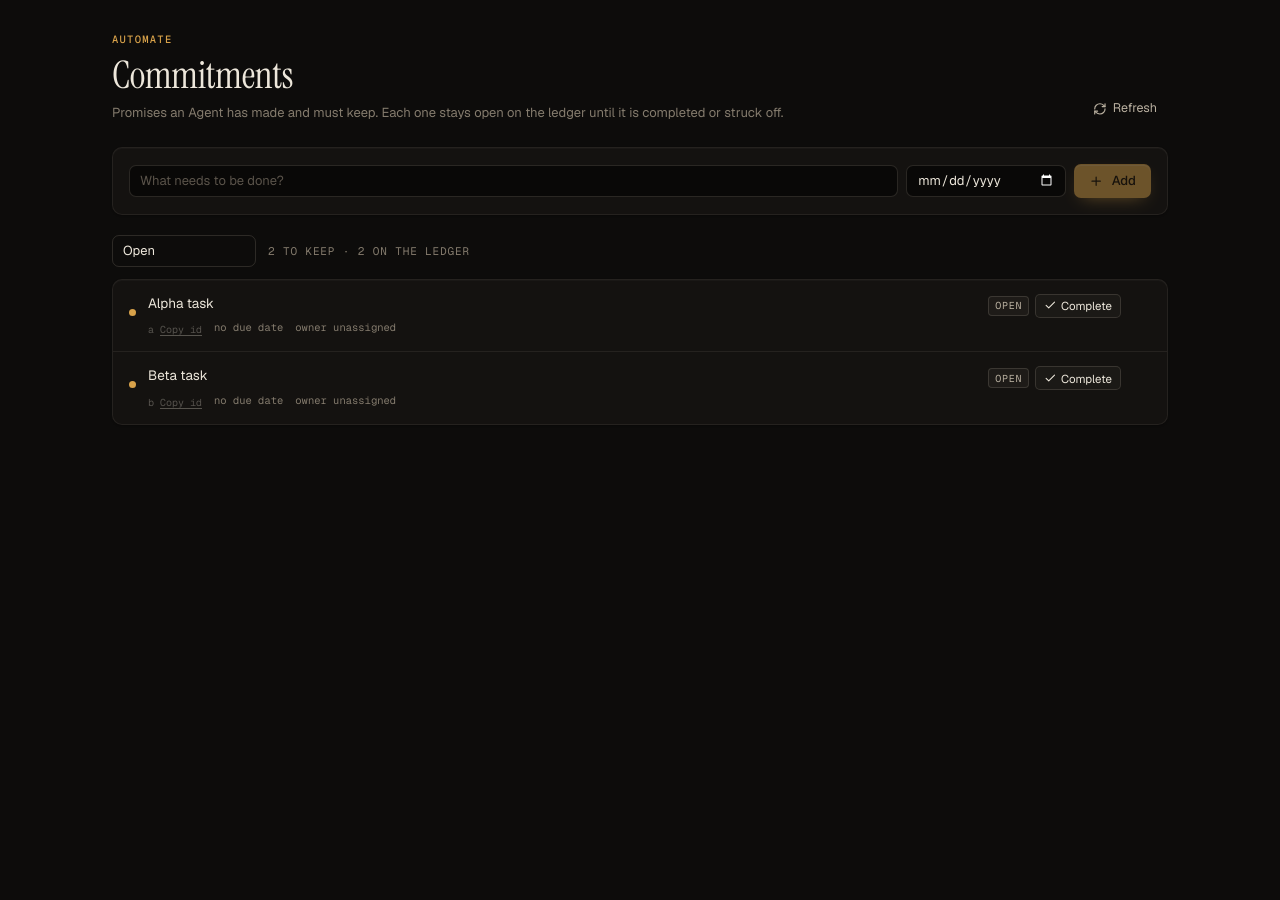
recovers confirmed complete_commitment with guarded reads only
The width and height of the screenshot is (1280, 900).
Expected: the text "Alpha task" is shown, [148,294,214,312]
Click the button "Complete" in the row of "Alpha task".
click(1078, 306)  # box [1035,294,1121,318]
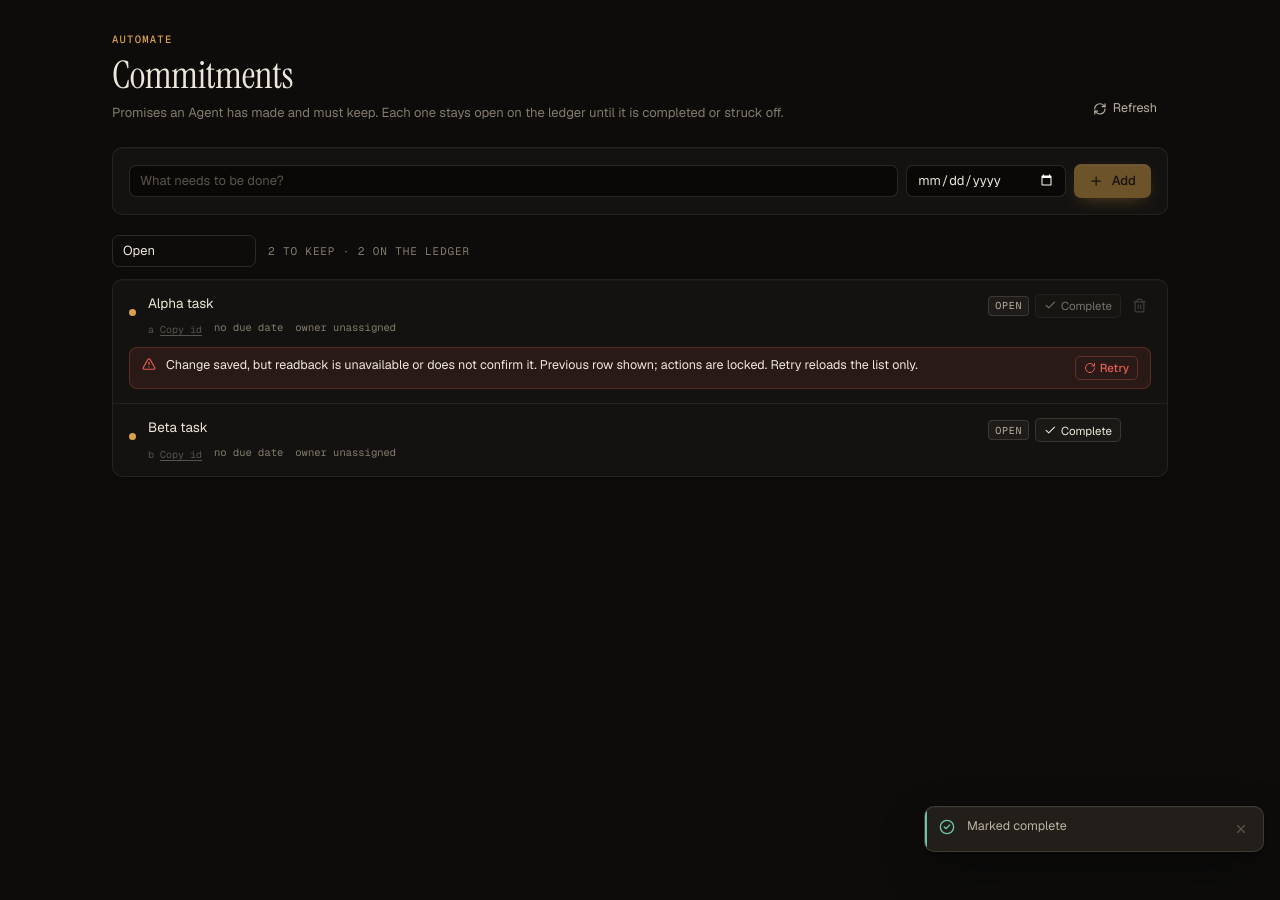
Result: the 1st message shows "saved" at [166,356,918,373]
Result: the 1st message shows "Retry reloads the list only" at [166,356,918,373]
Result: the button named "Delete" is disabled at [1127,294,1151,318]
Click the button "Retry".
click(1106, 368)  # box [1075,356,1138,380]
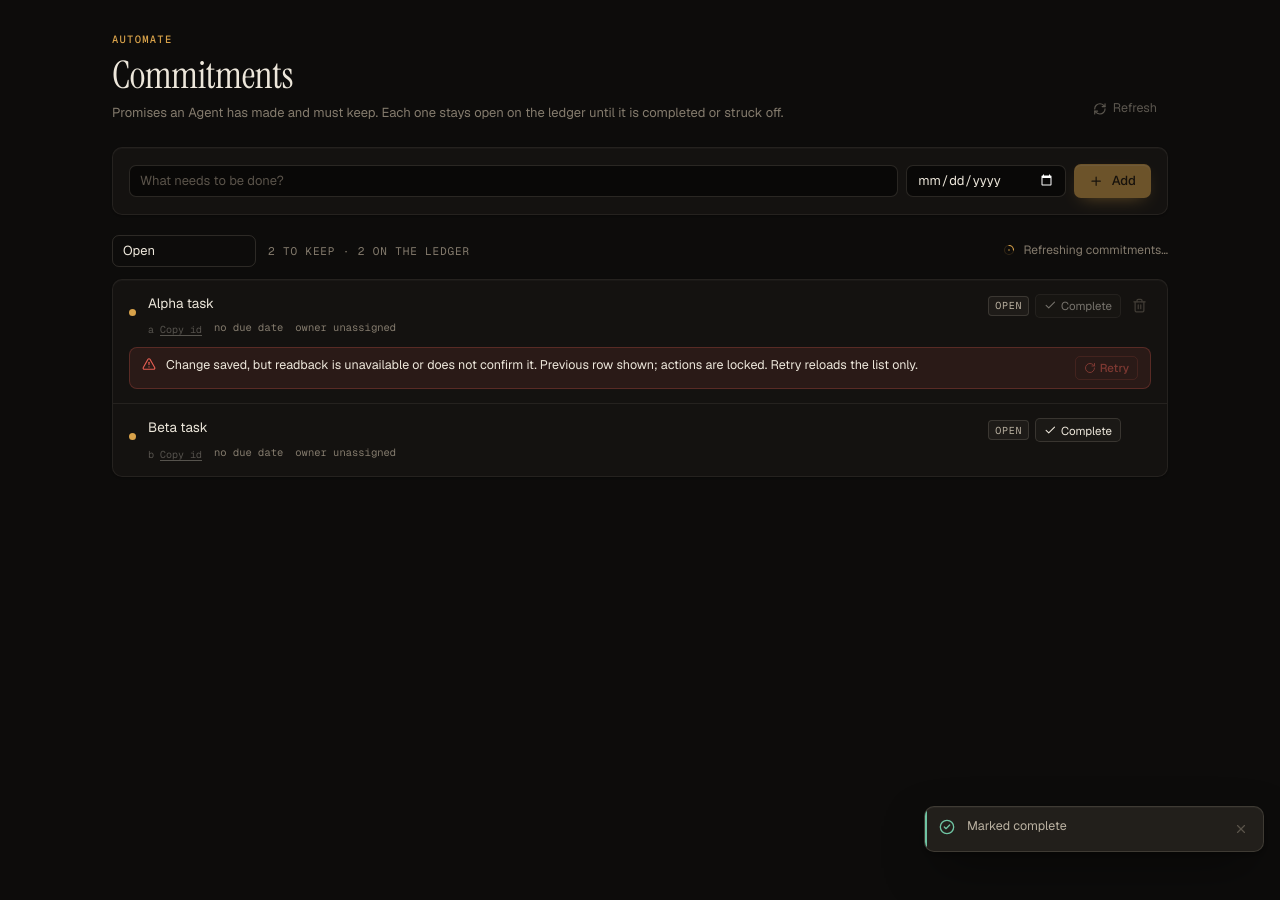
Click the button "Retry".
click(1106, 368)  # box [1075,356,1138,380]
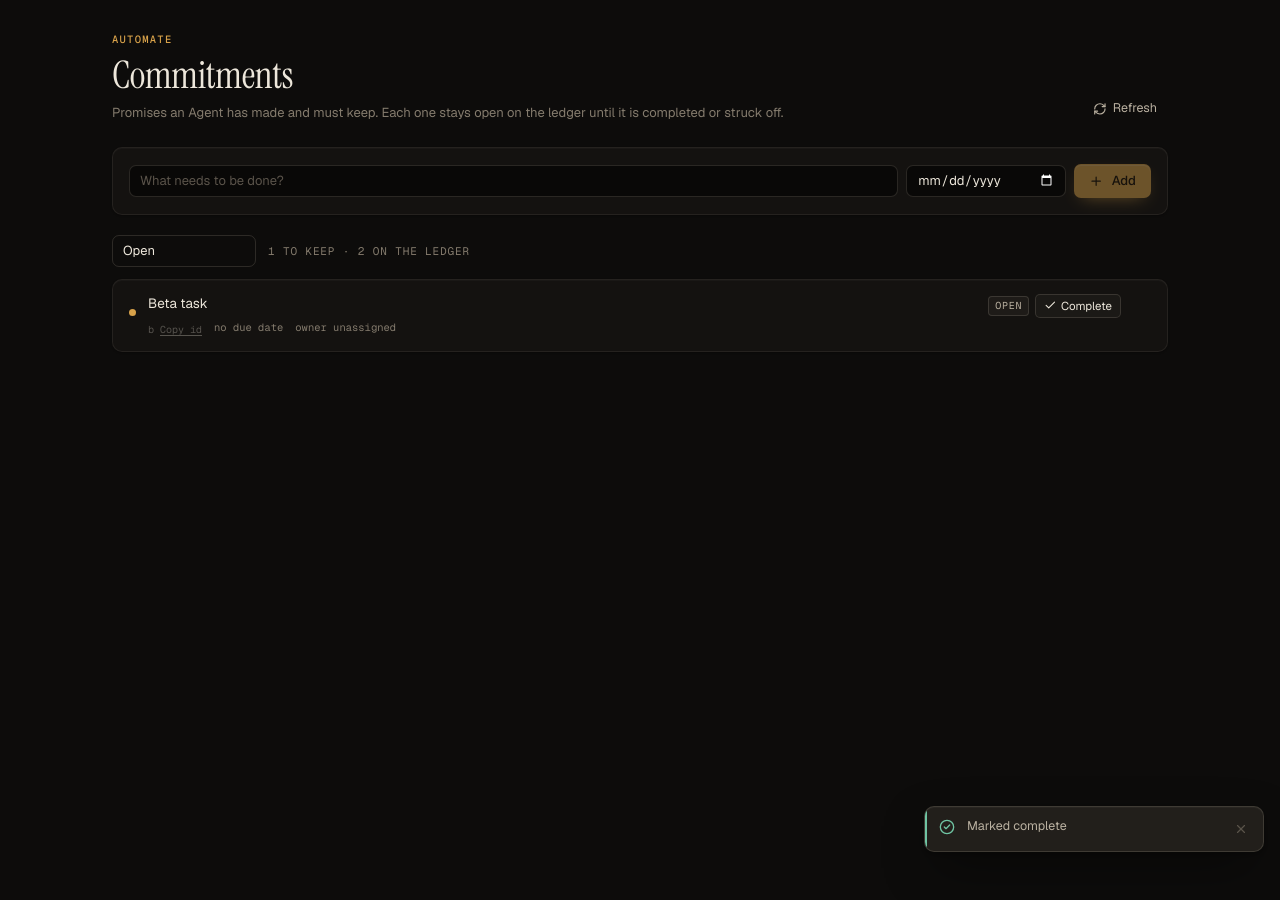
Result: the text "Alpha task" is gone
